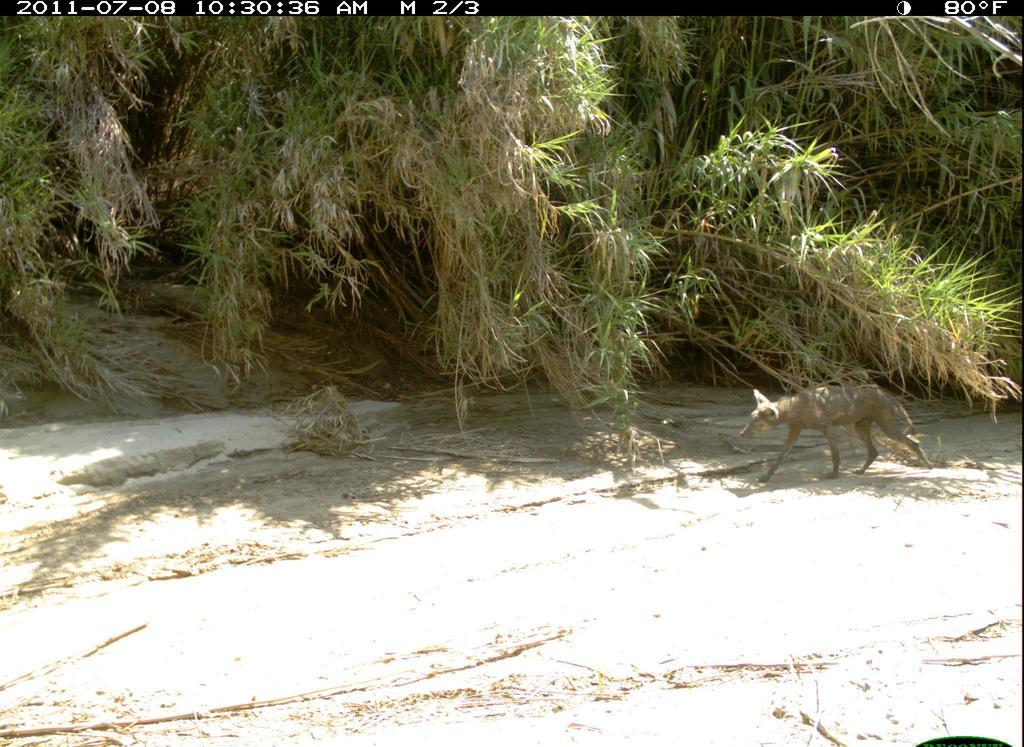coyote: (733, 365, 940, 501)
